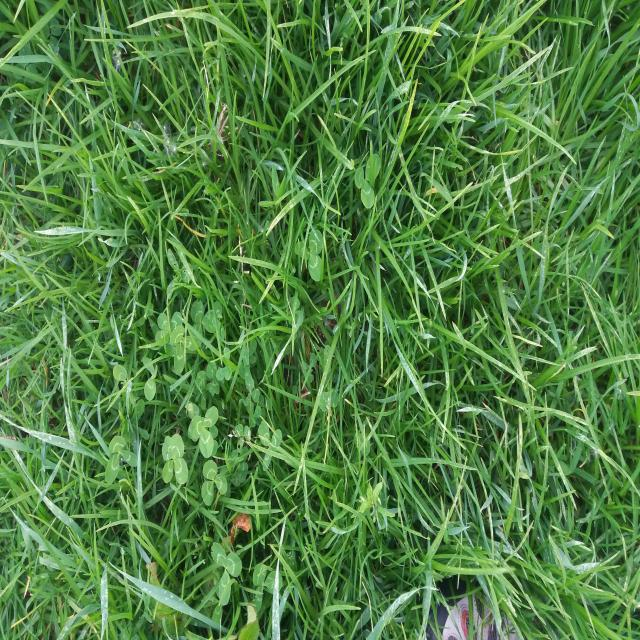Four Leaf Clover: (161, 433, 189, 485)
